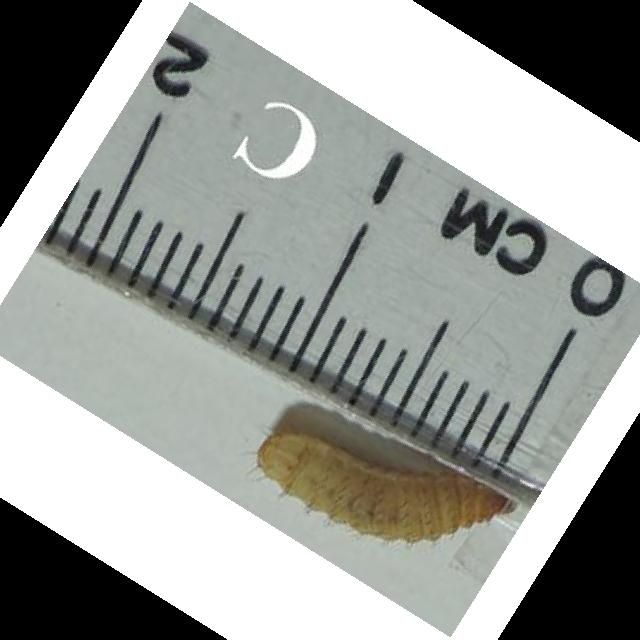Maggot: (256, 433, 519, 545)
